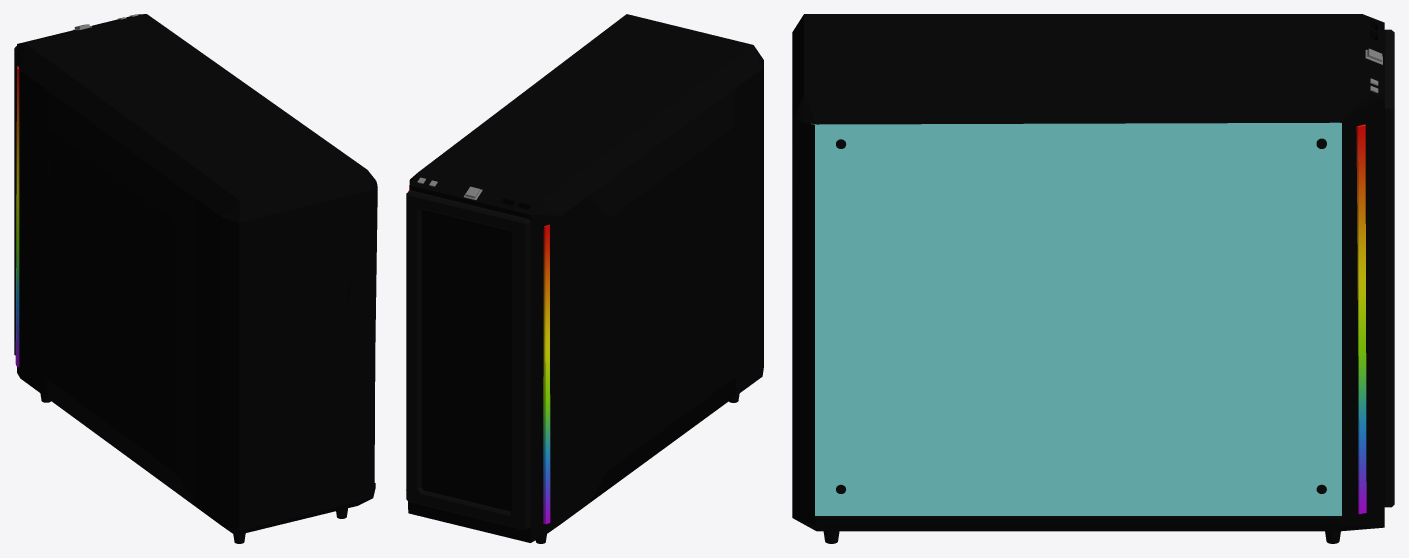
Rendered from pc pronto 3.obj.
3 views of the same model, side by side, from view 1: azimuth 30°, elevation 25°; view 2: azimuth 150°, elevation 25°; view 3: azimuth 270°, elevation 25° (orthographic). The views are drawn at different scales.
Parts seen in each view (by area): view 1: pCube107, pCube78, pCube120, pCube16; view 2: pCube107, pCube17, pCube16, pCube120; view 3: pCube62, pCube107, pCube16, pCube110.
Part boxes in pixels (x1,y1,x2,y2): pCube107: (17,14,377,535); pCube78: (269,252,349,338); pCube120: (15,66,19,366); pCube16: (14,46,16,355); pCube107: (408,14,763,542); pCube17: (421,209,512,511); pCube16: (406,190,530,530); pCube120: (543,224,550,524); pCube62: (811,122,1341,515); pCube107: (792,14,1384,531); pCube16: (1384,29,1394,507); pCube110: (1356,124,1366,514).
Bounding box in the file's own units: 4.37 × 9.02 × 10.75.
